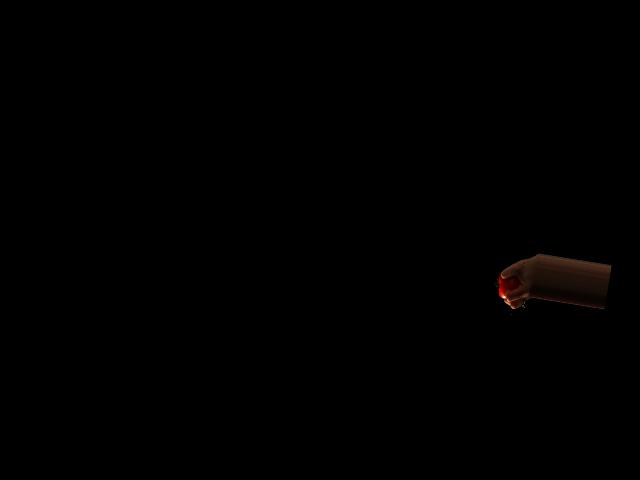tomato: (495, 273, 520, 300)
